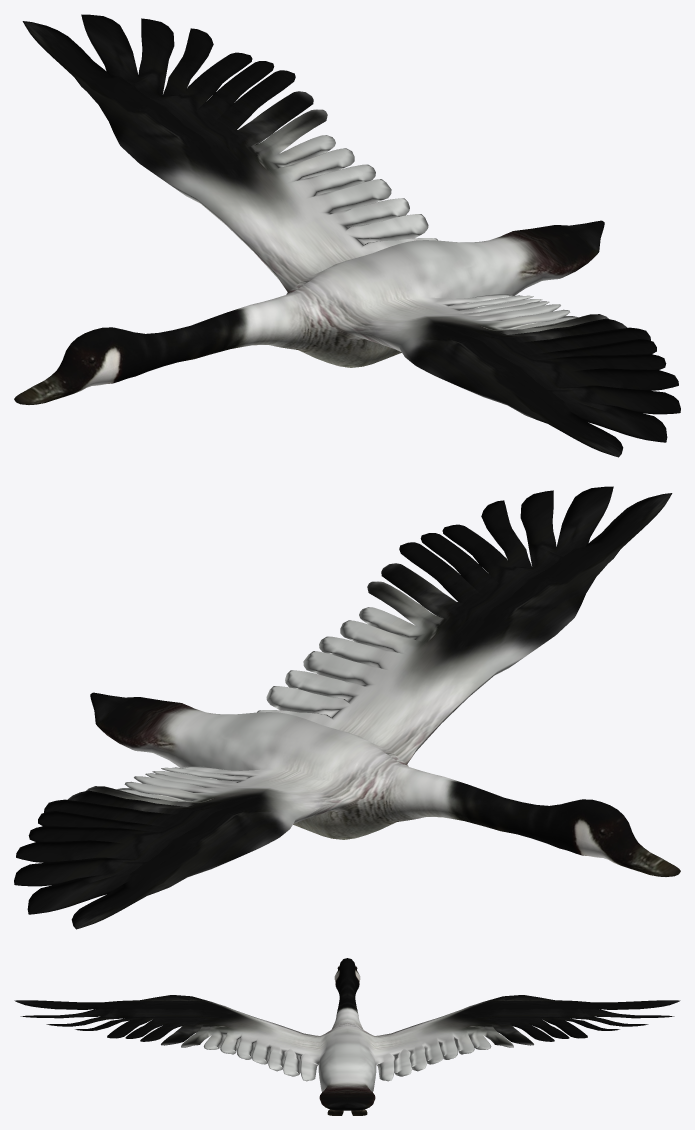
Rendered from goose.fbx.
3 renders of one model, top to bottom at view 1: azimuth 30°, elevation 25°; view 2: azimuth 150°, elevation 25°; view 3: azimuth 270°, elevation 25°, orthographic. The views are drawn at different scales.
Parts seen in each view (by area): view 1: Object_GOOSE.jpg; view 2: Object_GOOSE.jpg; view 3: Object_GOOSE.jpg.
Boxes of the visible parts, x1,y1,x2,y2 form: Object_GOOSE.jpg: (14,14,680,457); Object_GOOSE.jpg: (14,486,680,929); Object_GOOSE.jpg: (14,958,680,1115).
Size of the model in its own units: 0.6209 by 0.1364 by 1.09.
1 material, 1 textured.
